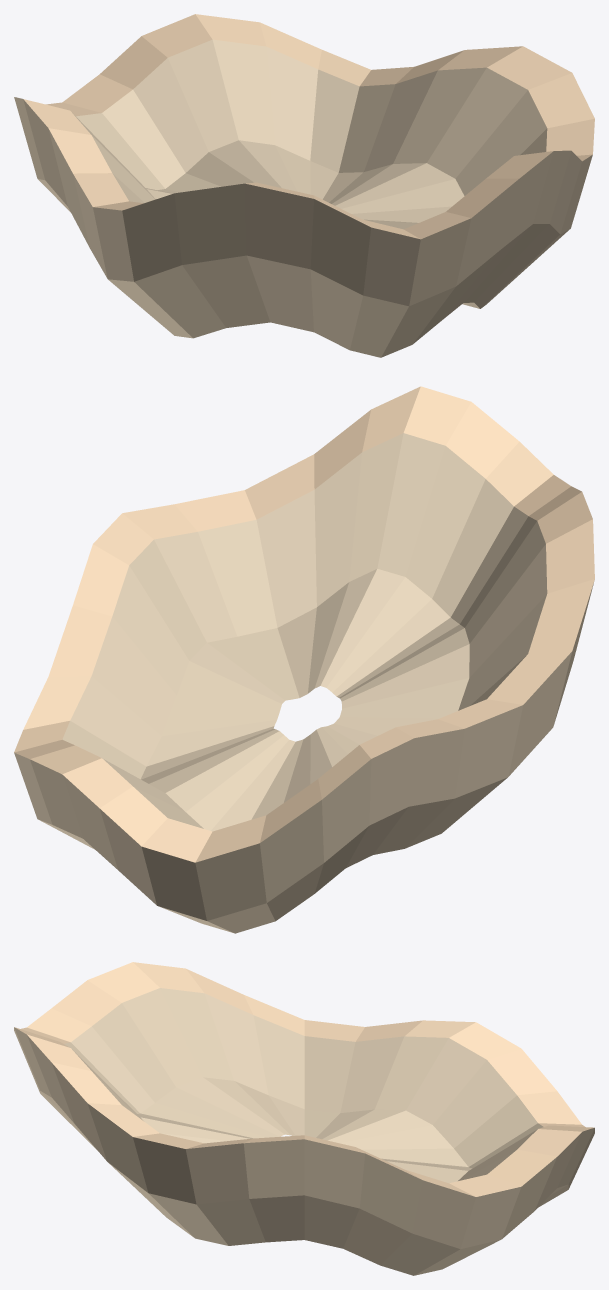
File: catapult_scoop.glb
The picture shows the model from 3 angles, top to bottom: view 1: azimuth 30°, elevation 25°; view 2: azimuth 150°, elevation 25°; view 3: azimuth 270°, elevation 25°; orthographic projection. The views are drawn at different scales.
Parts seen in each view (by area): view 1: catapult_scoop; view 2: catapult_scoop; view 3: catapult_scoop.
Boxes of the visible parts, left/top/right/bottom form: catapult_scoop: left=14, top=14, right=594, bottom=357; catapult_scoop: left=14, top=386, right=594, bottom=933; catapult_scoop: left=14, top=962, right=594, bottom=1275.
Bounding box in the file's own units: 0.6066 × 0.3944 × 0.8752.
